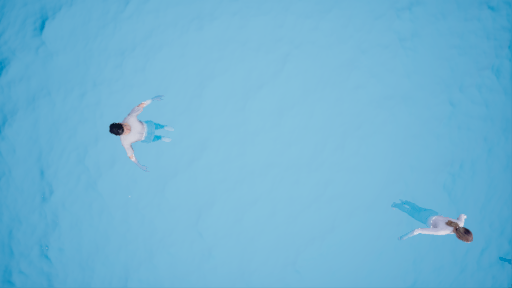person: (112, 94, 174, 172), (397, 201, 476, 252)
